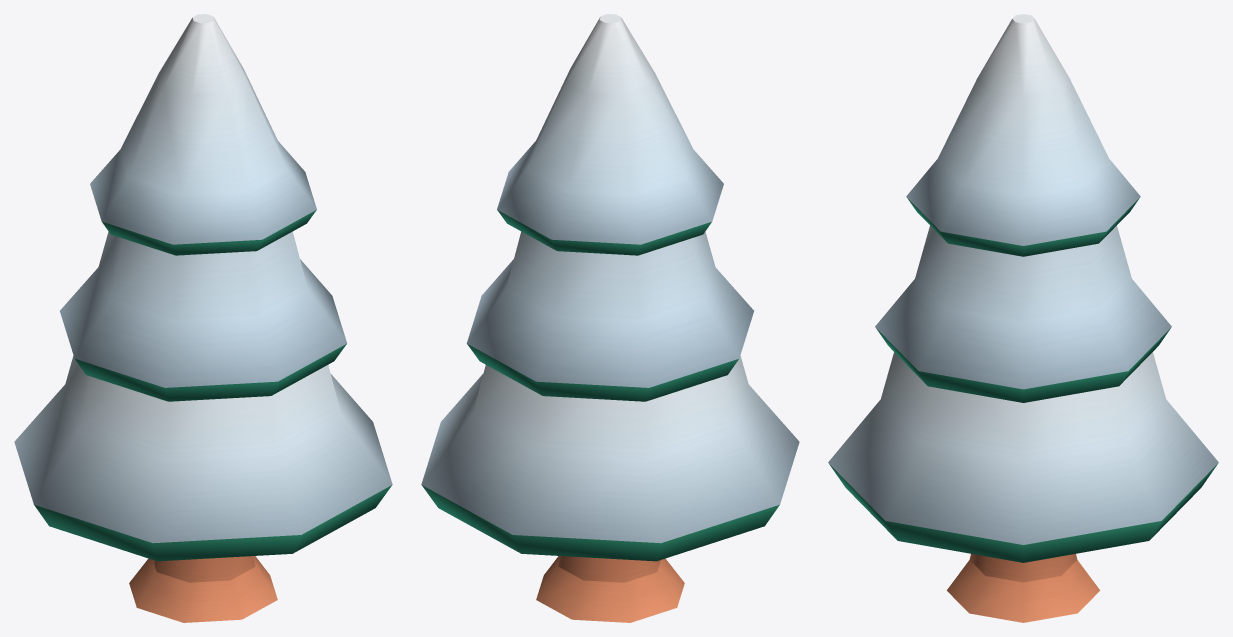
File: pine_2.fbx
3 views of the same model, side by side, from view 1: azimuth 30°, elevation 25°; view 2: azimuth 150°, elevation 25°; view 3: azimuth 270°, elevation 25° (orthographic).
Visible parts, largest first — view 1: pine_2; view 2: pine_2; view 3: pine_2.
Boxes of the visible parts, left/top/right/bottom form: pine_2: left=14, top=14, right=392, bottom=622; pine_2: left=421, top=14, right=799, bottom=622; pine_2: left=828, top=14, right=1218, bottom=622.
Bounding box in the file's own units: 1.19 × 1.92 × 1.19.
Materials: 1 (1 with a texture image).
